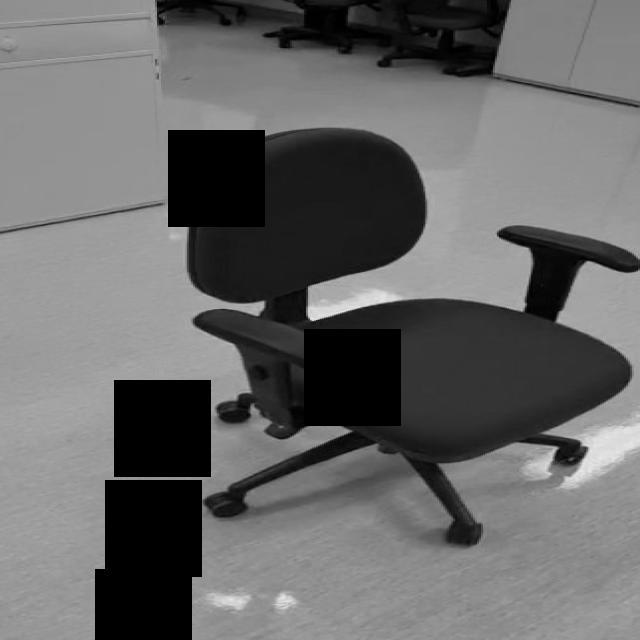chair: (185, 126, 640, 546)
